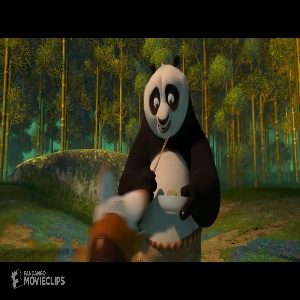po: (117, 55, 222, 261)
shifu: (87, 160, 147, 262)
